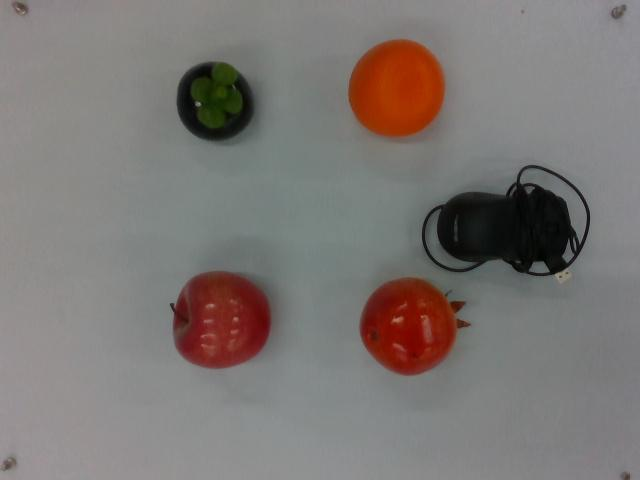apple: (162, 265, 275, 371)
mangosteen: (173, 55, 257, 147)
mouse: (424, 167, 597, 285)
orange: (346, 35, 449, 141)
pomegranate: (354, 274, 470, 381)
